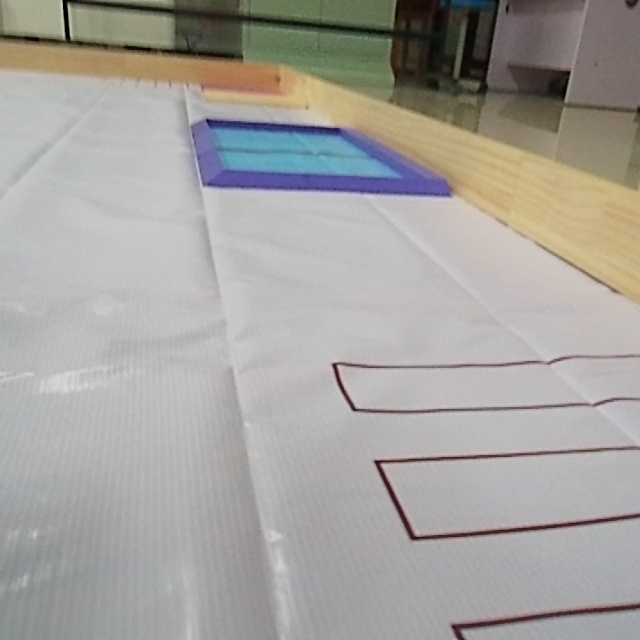zone2: (186, 108, 465, 211)
